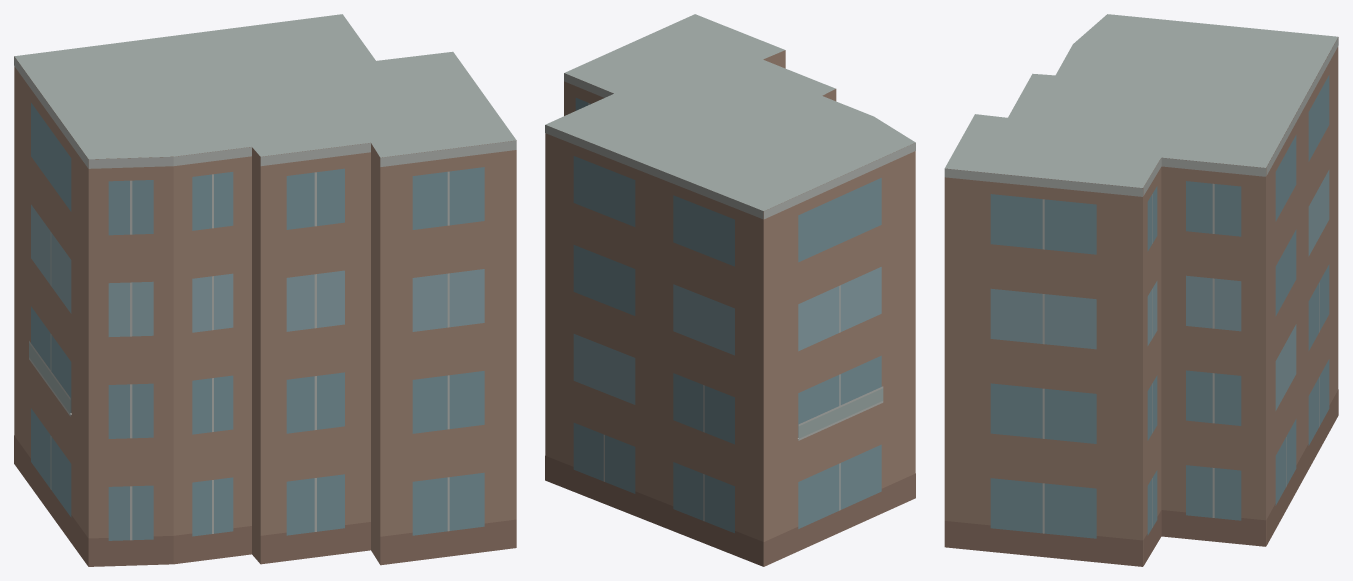
Rendered from survey-upis-32721534.glb.
3 renders of one model, left to right at view 1: azimuth 30°, elevation 25°; view 2: azimuth 150°, elevation 25°; view 3: azimuth 270°, elevation 25°, orthographic. The views are drawn at different scales.
Parts seen in each view (by area): view 1: survey-upis-32721534.tmp; view 2: survey-upis-32721534.tmp; view 3: survey-upis-32721534.tmp.
Part boxes in pixels (left/top/right/bottom): survey-upis-32721534.tmp: left=14, top=14, right=516, bottom=566; survey-upis-32721534.tmp: left=545, top=14, right=915, bottom=566; survey-upis-32721534.tmp: left=944, top=14, right=1338, bottom=566.
Size of the model in its own units: 10.26 by 10.4 by 9.81.
